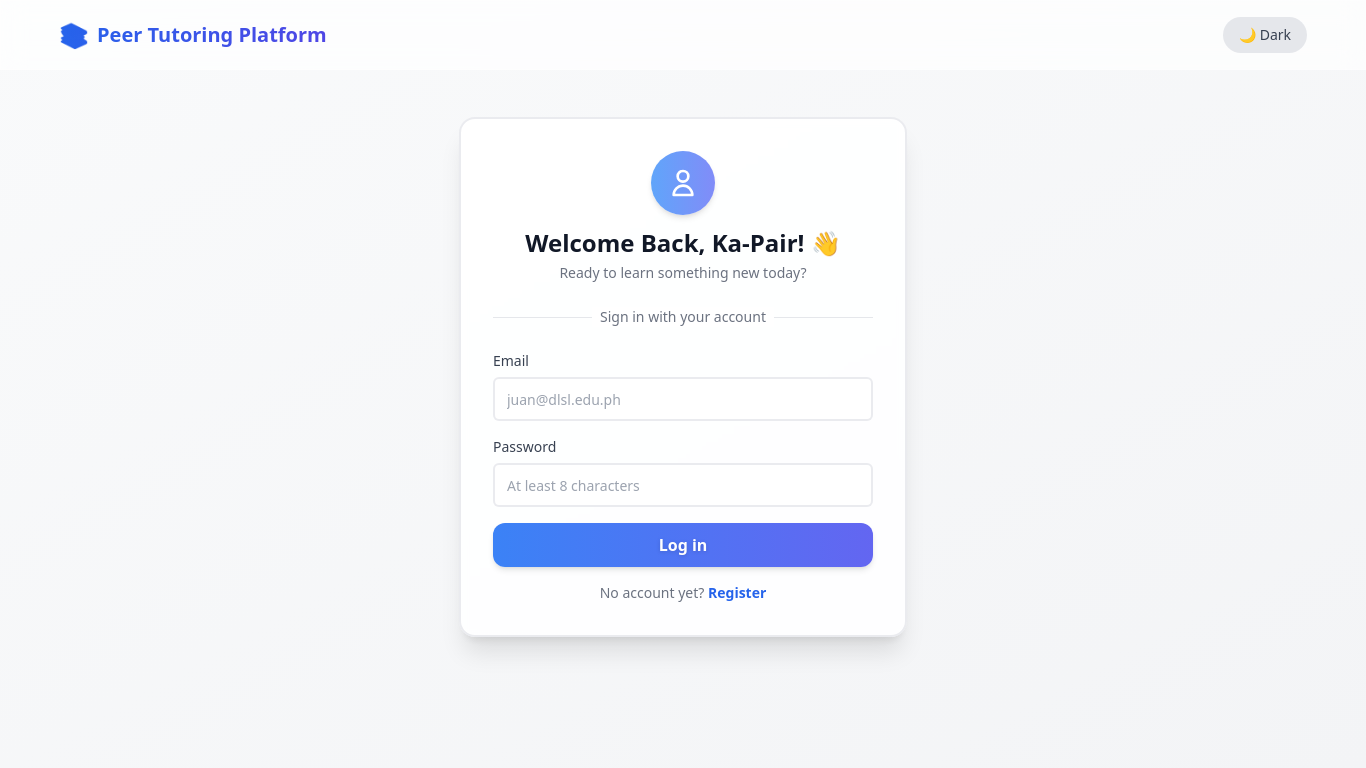
it: LoginPage › sends nothing to the API while invalid
In the field labelled "Email": x=683, y=399 [493, 377, 873, 421], type "test@dlsl.edu.ph"
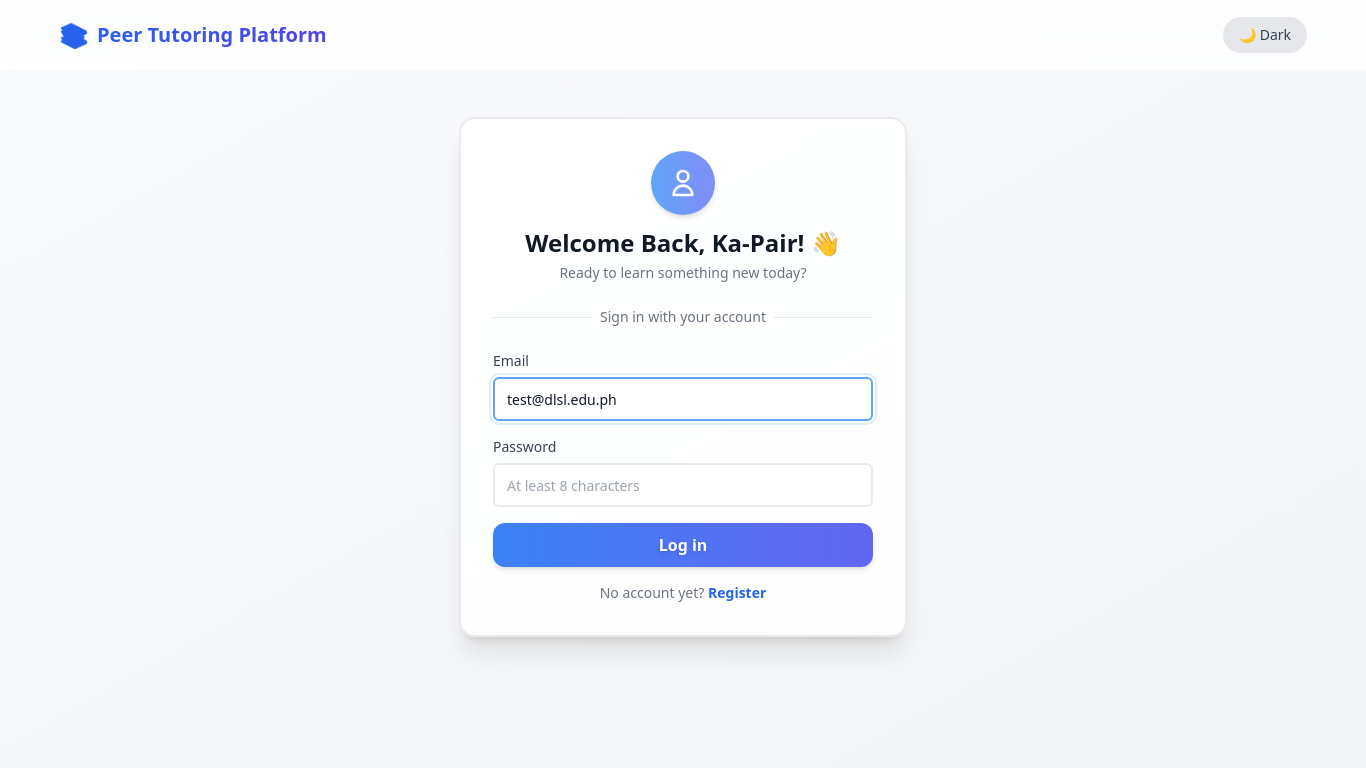
In the password field labelled "Password": x=683, y=485 [493, 463, 873, 507], type "short"
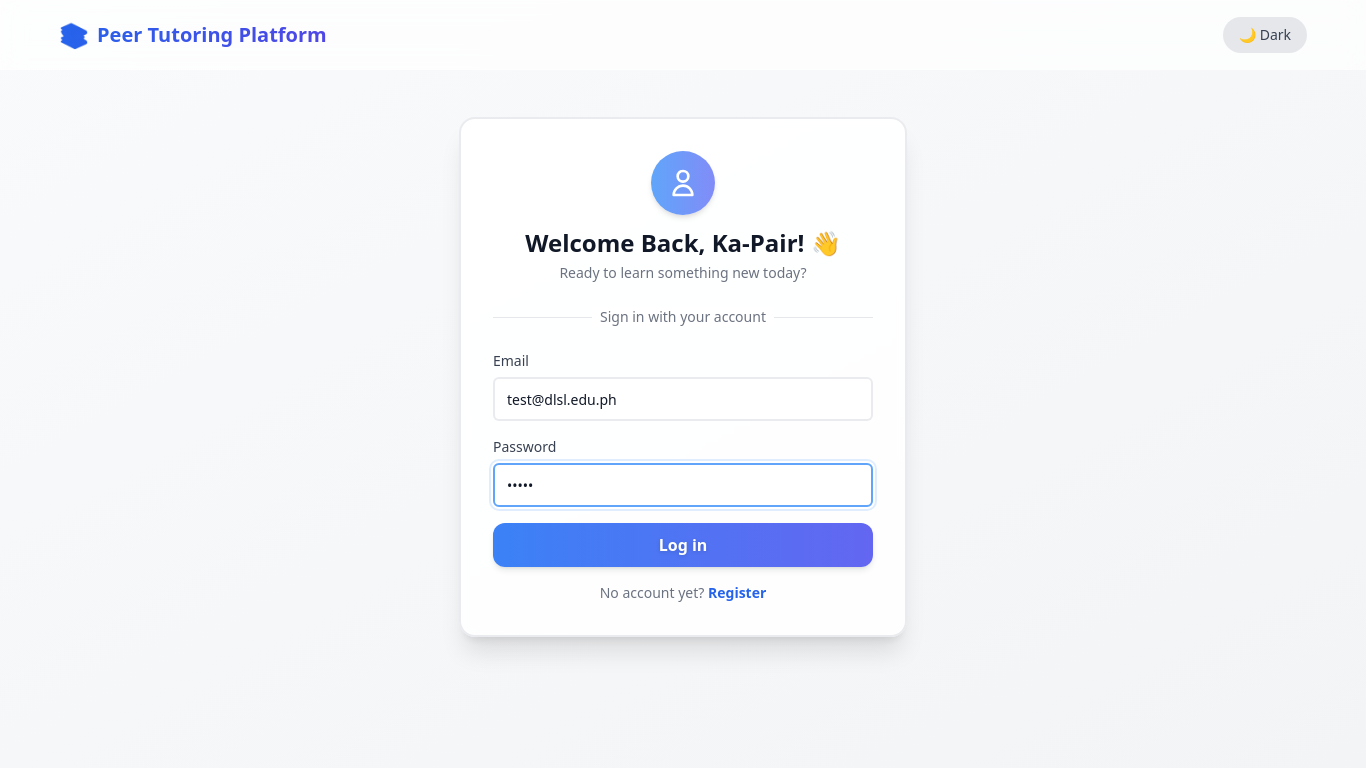
Click the button "Log in": x=683, y=545 [493, 523, 873, 567]
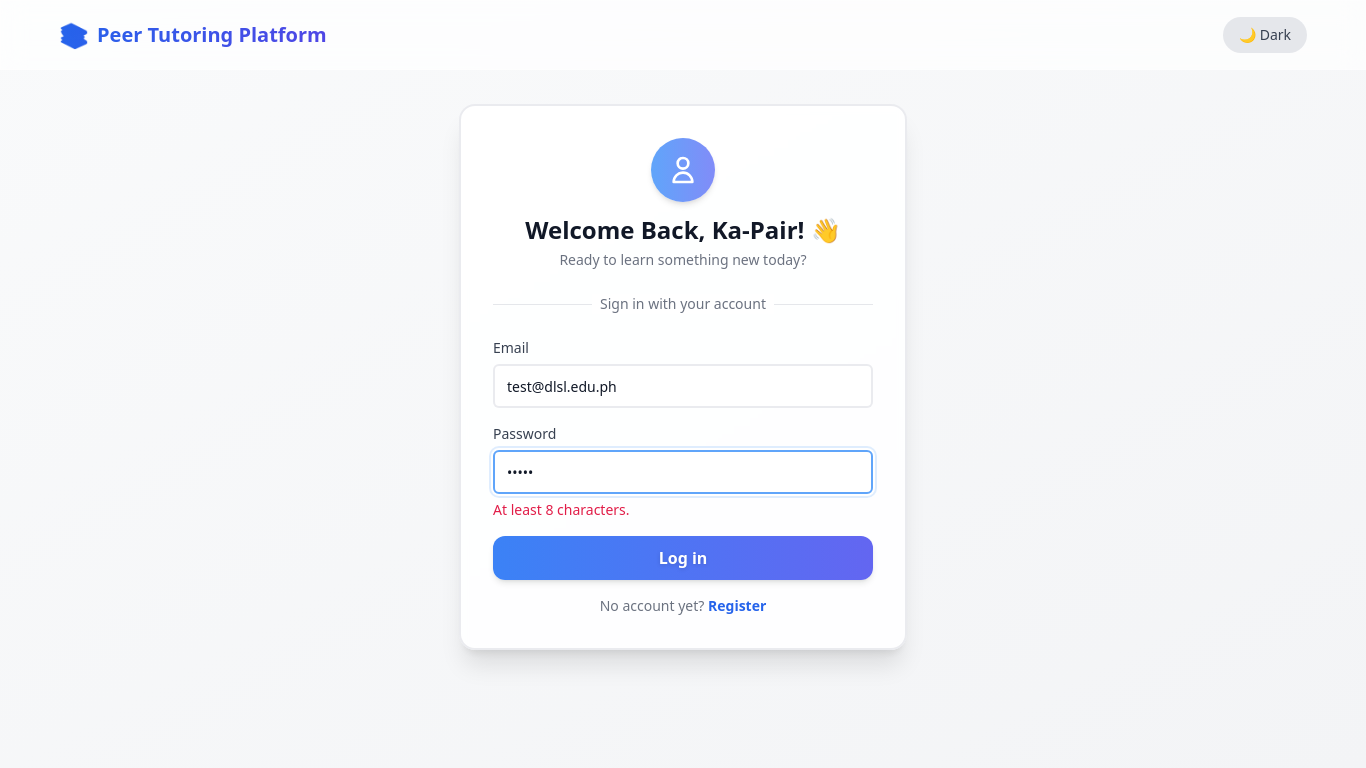
expect the text "At least 8 characters." is shown: met, box [493, 500, 630, 519]
